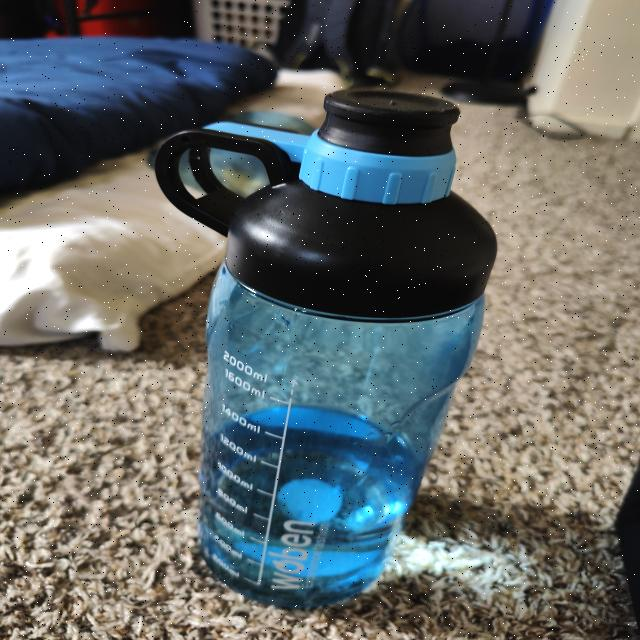bottle: (156, 96, 500, 594)
